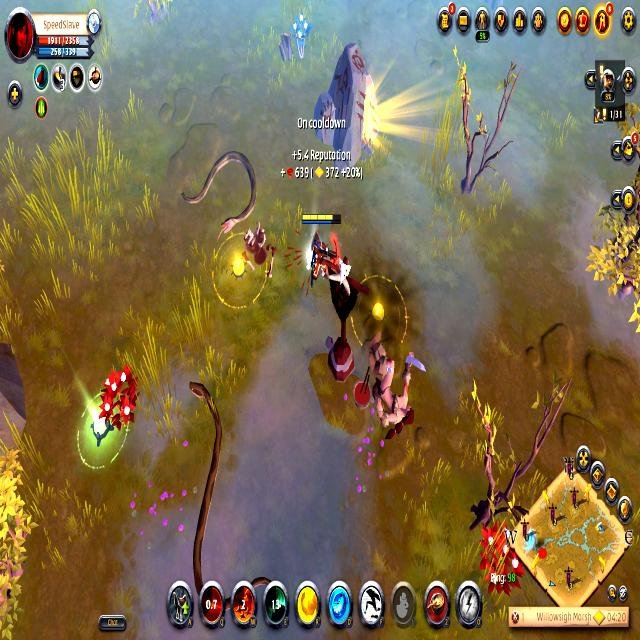hide: (475, 516, 527, 606), (97, 365, 142, 432), (286, 6, 315, 66)
ore: (170, 363, 284, 619)
red: (300, 202, 347, 294)
stone: (302, 241, 318, 276)
